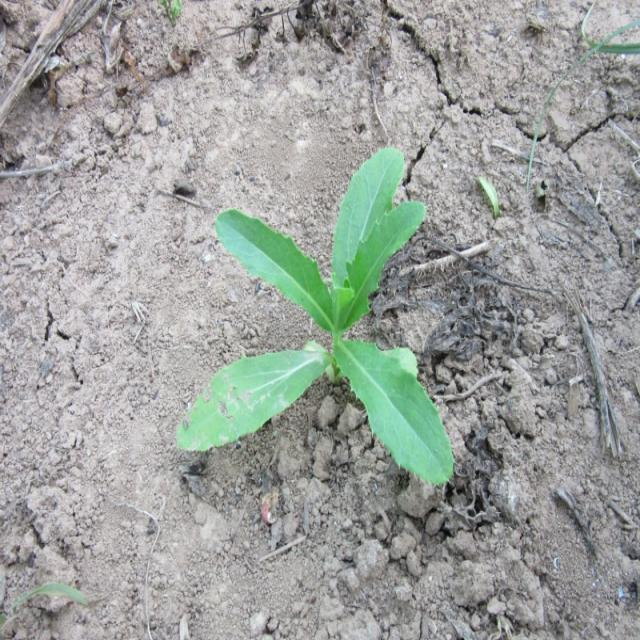cs: (173, 146, 456, 481)
